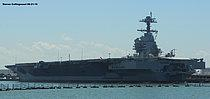MIL_Ship: (5, 13, 207, 81)
